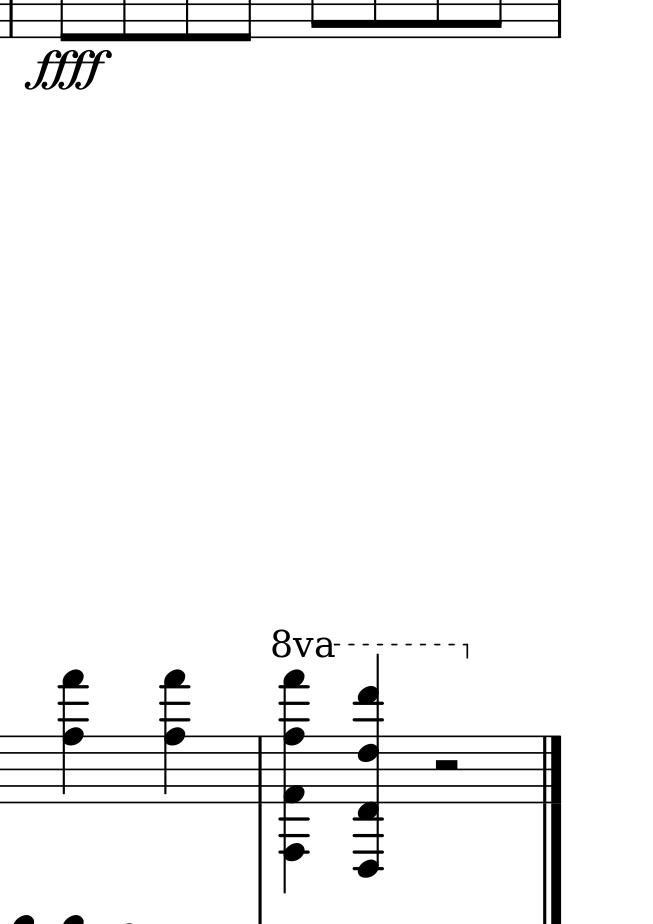4_8_15: (57, 669, 88, 806), (159, 668, 190, 805)
Final_barline: (539, 736, 565, 803)
Rests2: (430, 756, 464, 776)
Single_barline: (252, 736, 268, 804), (551, 1, 566, 38)
ffff: (25, 47, 110, 93)
